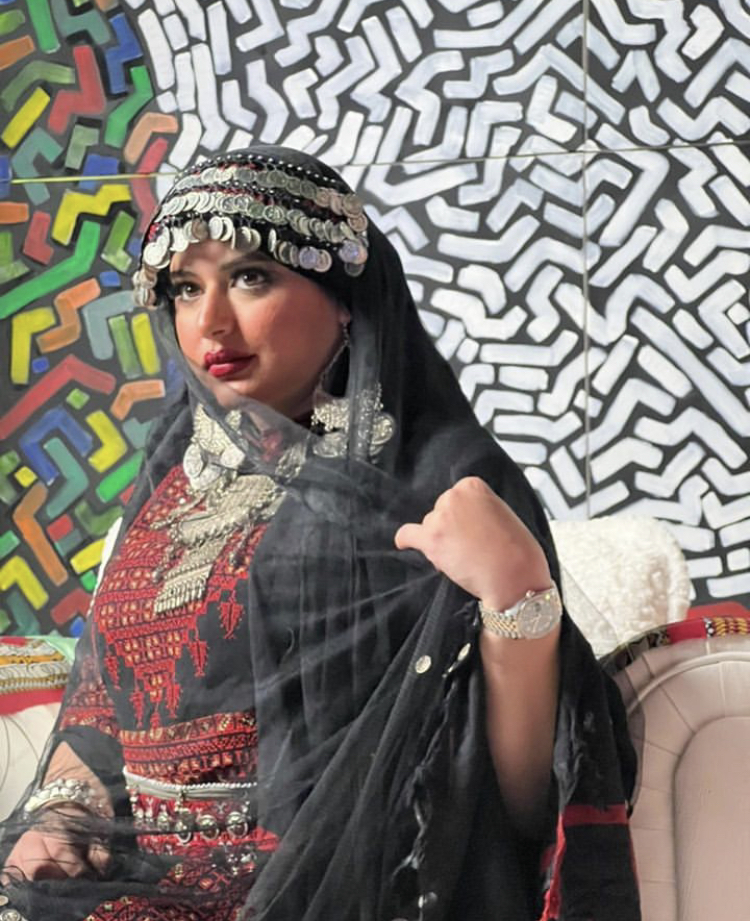Saudi_Founding_Day: (2, 142, 649, 921)
